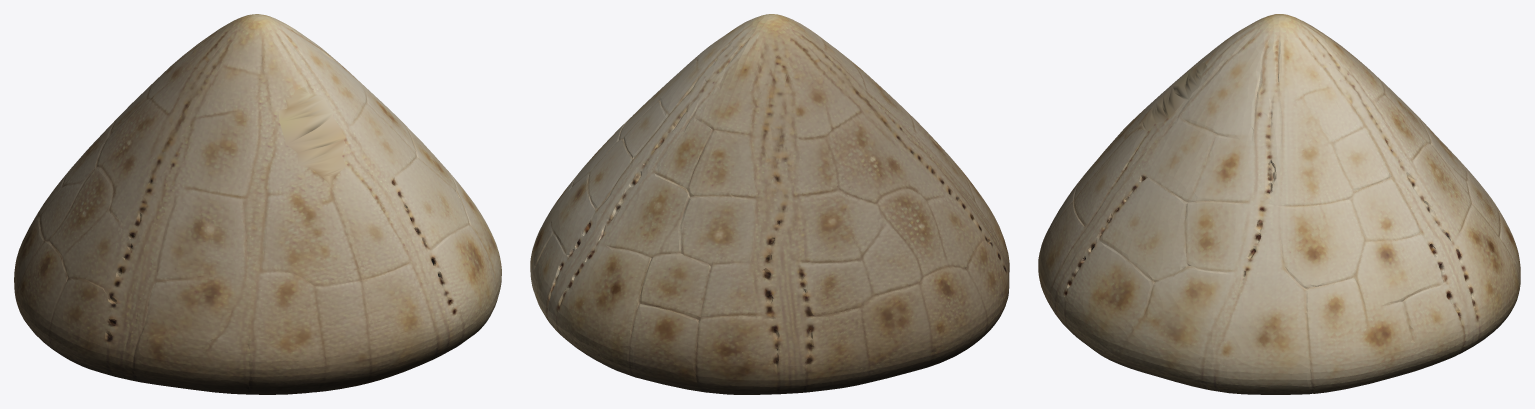
The picture shows the model from 3 angles, left to right: view 1: azimuth 30°, elevation 25°; view 2: azimuth 150°, elevation 25°; view 3: azimuth 270°, elevation 25°; orthographic projection.
Parts seen in each view (by area): view 1: geometry_0; view 2: geometry_0; view 3: geometry_0.
Boxes of the visible parts, bbox=[...] form: geometry_0: bbox=[14, 14, 501, 394]; geometry_0: bbox=[530, 14, 1009, 394]; geometry_0: bbox=[1038, 14, 1520, 394].
Bounding box in the file's own units: 0.9334 × 0.6205 × 0.9251.
2 materials, 1 textured.
